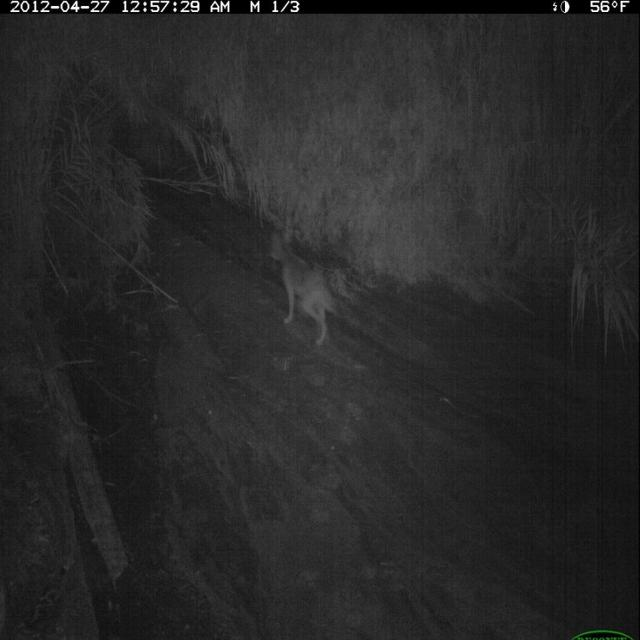coyote: (265, 230, 350, 349)
